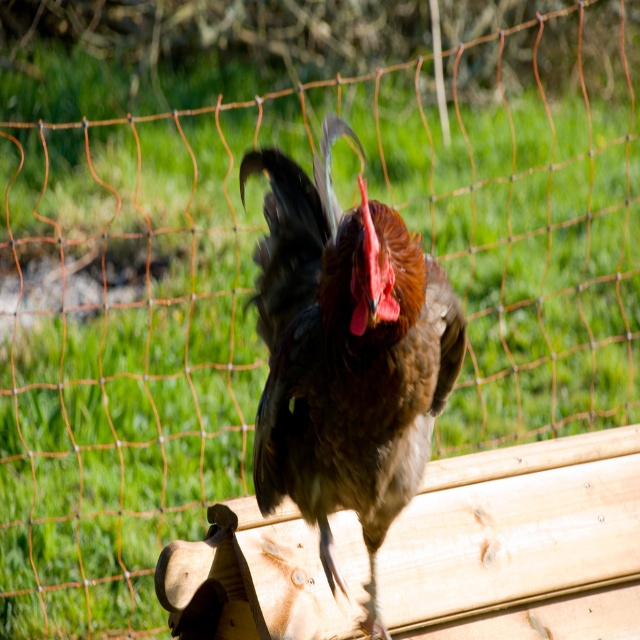Chicken: (240, 137, 467, 635)
